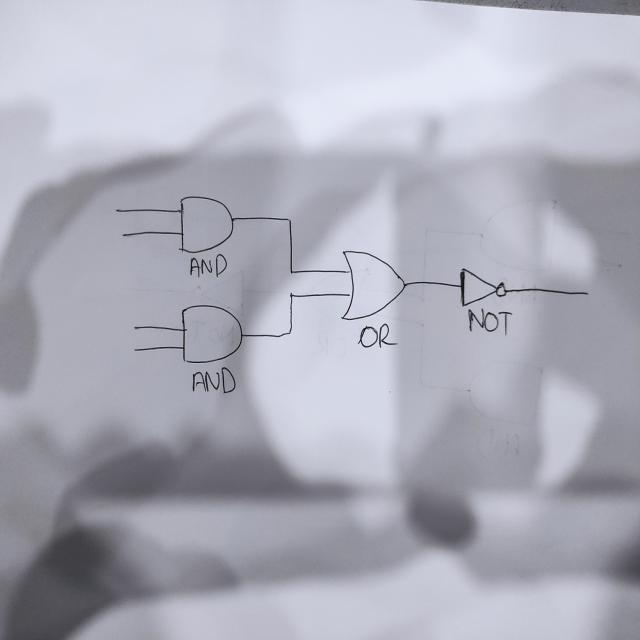junction: (285, 325, 295, 339), (284, 213, 294, 226), (286, 266, 295, 278), (288, 289, 295, 301)
terminal: (581, 288, 592, 298), (120, 230, 128, 240), (132, 322, 139, 332), (132, 345, 138, 354), (114, 206, 120, 214)
text: (188, 366, 237, 396), (465, 306, 513, 336), (356, 322, 398, 349), (187, 254, 230, 278)
